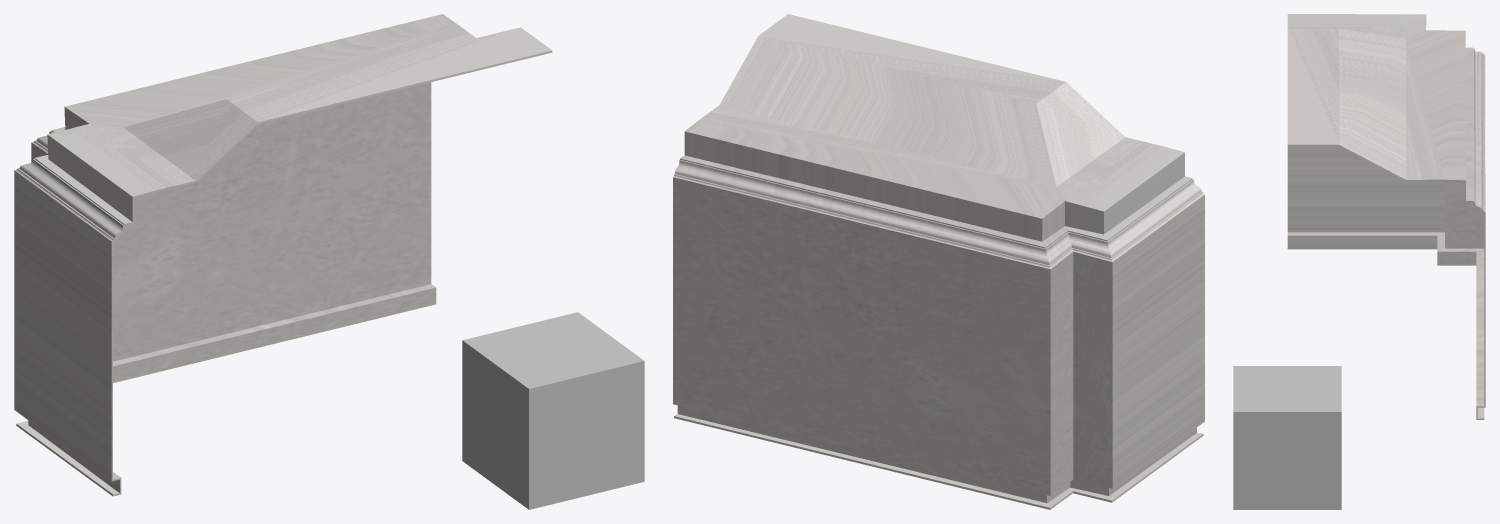
File: controller.obj
The picture shows the model from 3 angles, left to right: view 1: azimuth 30°, elevation 25°; view 2: azimuth 150°, elevation 25°; view 3: azimuth 270°, elevation 25°; orthographic projection. The views are drawn at different scales.
Parts seen in each view (by area): view 1: MainHallNondestructive_Cube.001, Cube_Cube.004; view 2: MainHallNondestructive_Cube.001; view 3: MainHallNondestructive_Cube.001, Cube_Cube.004.
Part boxes in pixels (left/top/right/bottom): MainHallNondestructive_Cube.001: left=14, top=14, right=552, bottom=496; Cube_Cube.004: left=462, top=312, right=644, bottom=509; MainHallNondestructive_Cube.001: left=673, top=14, right=1204, bottom=509; MainHallNondestructive_Cube.001: left=1287, top=14, right=1485, bottom=419; Cube_Cube.004: left=1233, top=366, right=1341, bottom=509.
Size of the model in its own units: 2.39 by 1.92 by 1.28.
2 materials, 1 textured.
